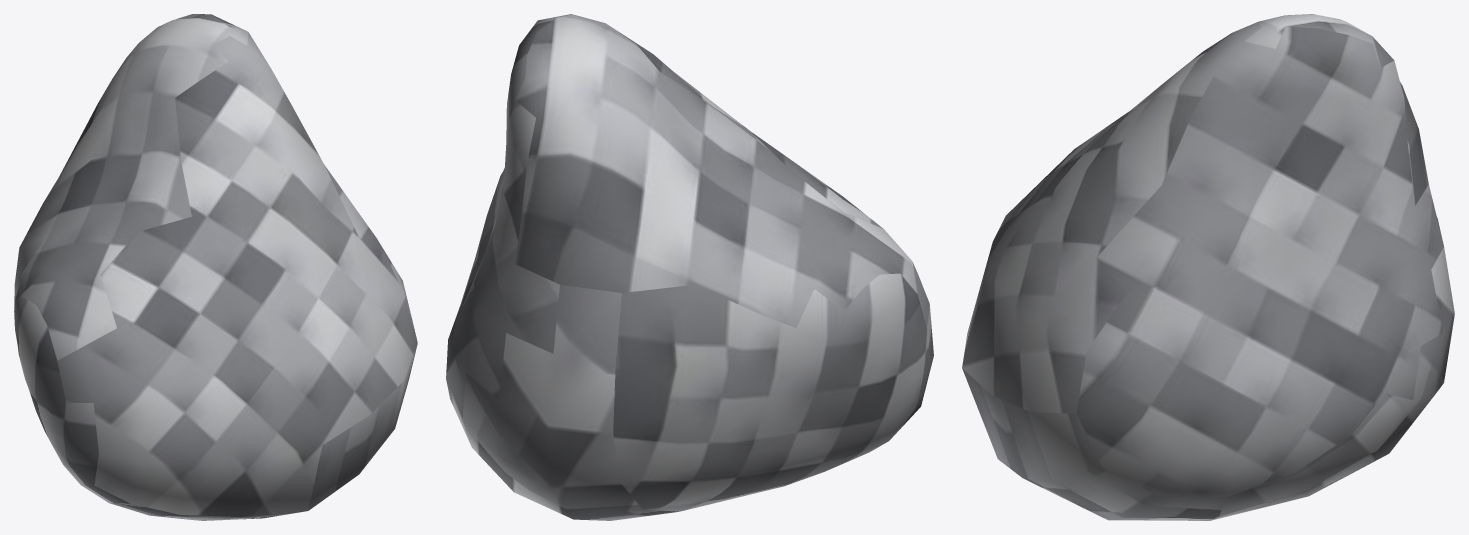
The model's file is Rock 06.fbx.
3 renders of one model, left to right at view 1: azimuth 30°, elevation 25°; view 2: azimuth 150°, elevation 25°; view 3: azimuth 270°, elevation 25°, orthographic. The views are drawn at different scales.
Parts seen in each view (by area): view 1: Rock.006; view 2: Rock.006; view 3: Rock.006.
Part boxes in pixels (x1,y1,x2,y2): Rock.006: (14,14,417,520); Rock.006: (446,14,933,520); Rock.006: (962,14,1454,520).
Size of the model in its own units: 0.7546 by 0.8432 by 0.7448.
